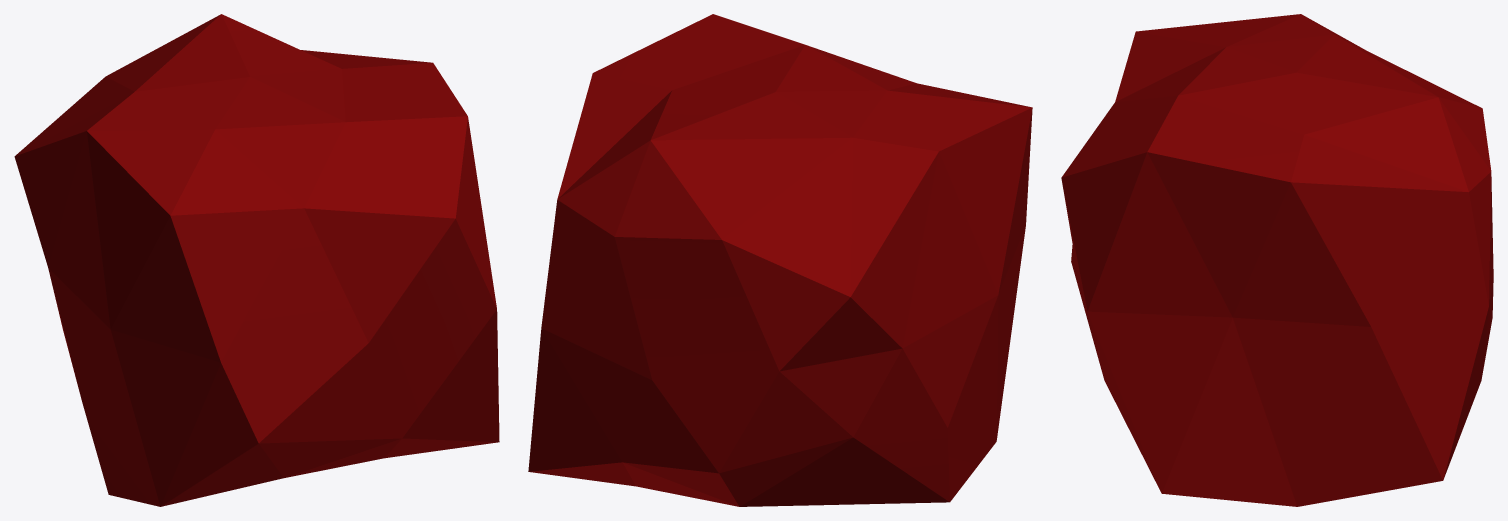
The model's file is Resources__items__meat__PufferfishMeat.glb.
The picture shows the model from 3 angles, left to right: view 1: azimuth 30°, elevation 25°; view 2: azimuth 150°, elevation 25°; view 3: azimuth 270°, elevation 25°; orthographic projection. The views are drawn at different scales.
Visible parts, largest first — view 1: MeatChunk; view 2: MeatChunk; view 3: MeatChunk.
Boxes of the visible parts, x1=… form: MeatChunk: x1=14, y1=14, x2=499, y2=506; MeatChunk: x1=528, y1=14, x2=1032, y2=506; MeatChunk: x1=1061, y1=14, x2=1493, y2=506.
Bounding box in the file's own units: 0.4449 × 0.4477 × 0.4908.
1 material, 1 textured.
